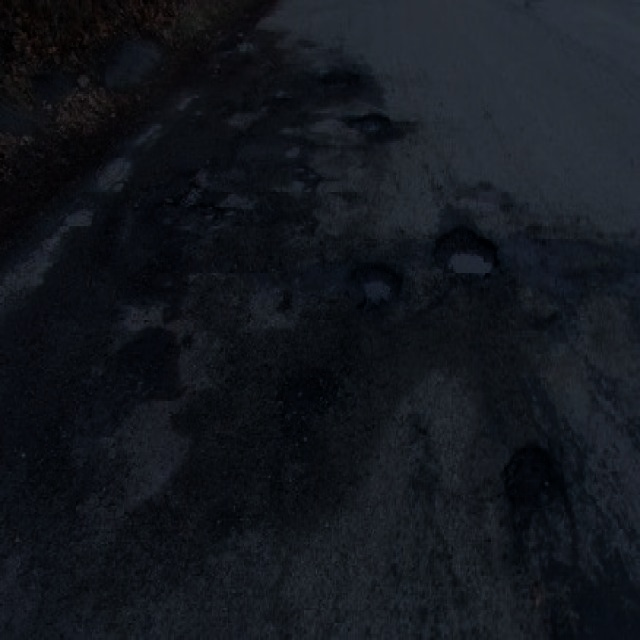Pothole: (118, 326, 180, 399), (431, 220, 501, 278), (500, 442, 556, 504), (273, 365, 338, 418), (350, 254, 404, 312), (128, 250, 182, 296), (340, 108, 390, 134), (317, 66, 360, 92), (196, 200, 222, 224), (176, 180, 202, 204)
